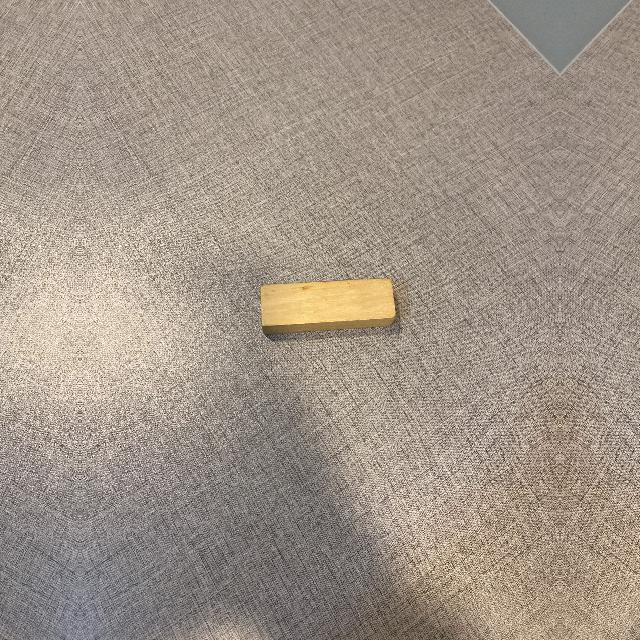jenga: (258, 278, 396, 332)
